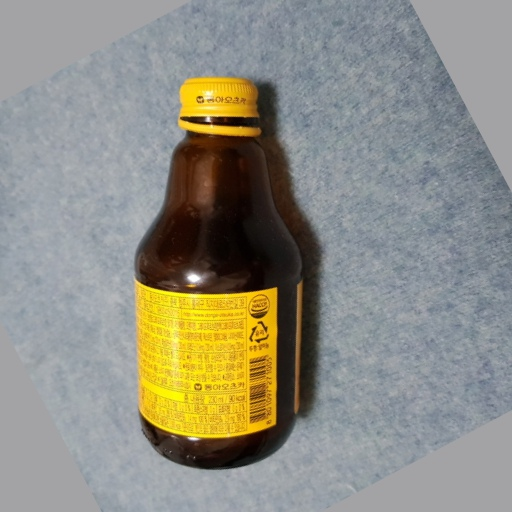Glass_3: (123, 75, 307, 473)
